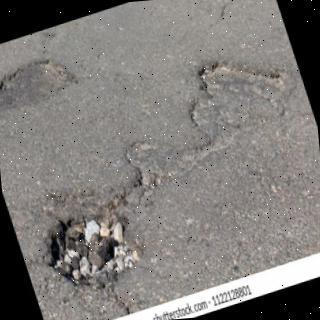pothole: (47, 219, 141, 291)
